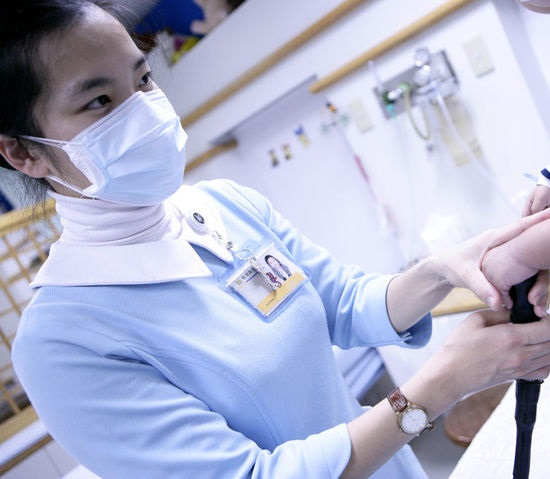face_mask: (30, 12, 176, 202)
